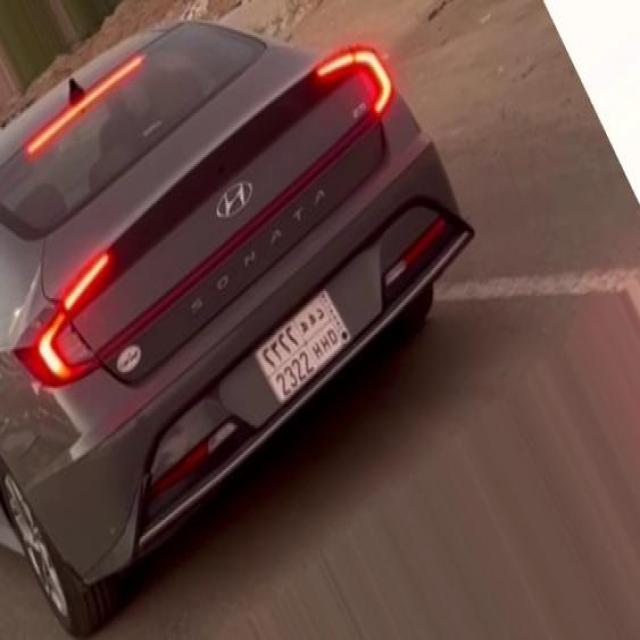Car-plate: (244, 284, 362, 409)
